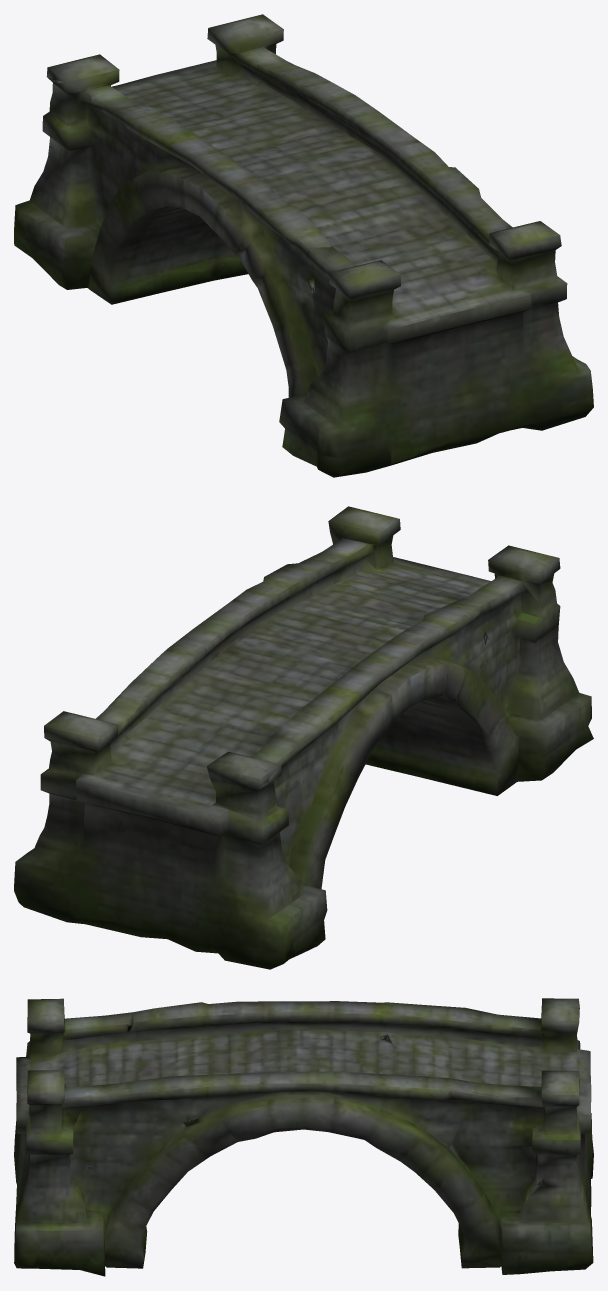
Rendered from bridge.glb.
3 views of the same model, one above another, from view 1: azimuth 30°, elevation 25°; view 2: azimuth 150°, elevation 25°; view 3: azimuth 270°, elevation 25° (orthographic). The views are drawn at different scales.
Visible parts, largest first — view 1: bridge; view 2: bridge; view 3: bridge.
Boxes of the visible parts, bbox=[...] form: bridge: bbox=[14, 14, 593, 477]; bridge: bbox=[14, 506, 593, 969]; bridge: bbox=[14, 998, 593, 1276].
Bounding box in the file's own units: 4.01 × 2.77 × 7.98.
Materials: 1 (1 with a texture image).
